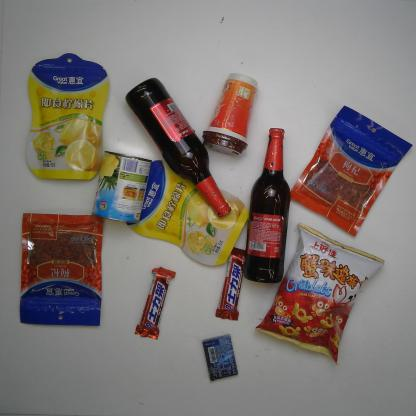Alcohol: (119, 76, 233, 221), (242, 125, 292, 286)
Canned Food: (90, 147, 156, 225)
Chocolate: (131, 265, 177, 343), (213, 244, 250, 325)
Dried Fruit: (286, 102, 413, 238), (124, 156, 253, 268), (16, 50, 112, 183), (14, 209, 110, 330)
Gum: (201, 335, 239, 382)
Instant Drink: (199, 70, 262, 159)
Puffed Food: (254, 221, 387, 365)
